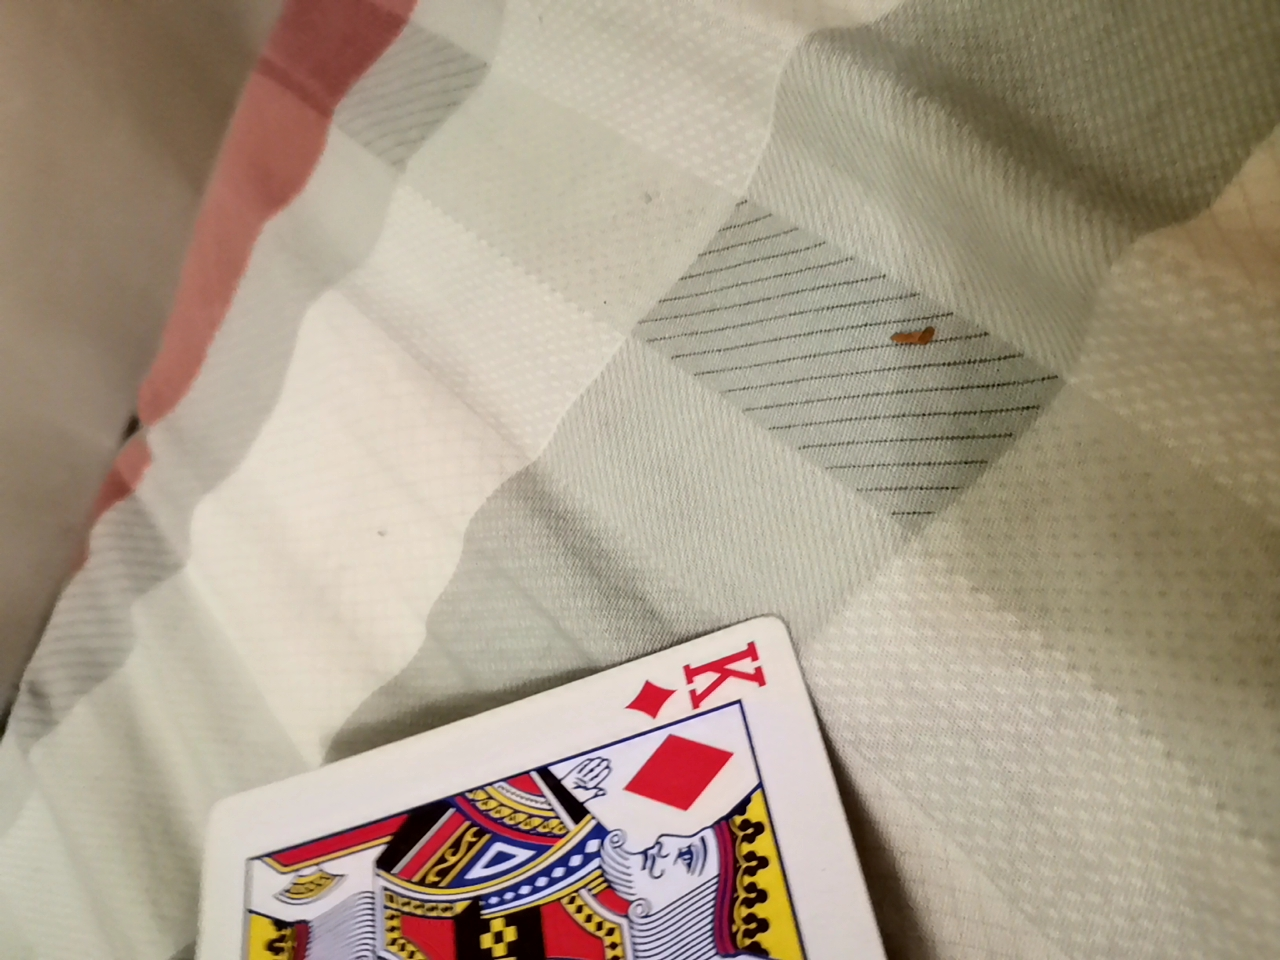fk k: (173, 624, 942, 960)
